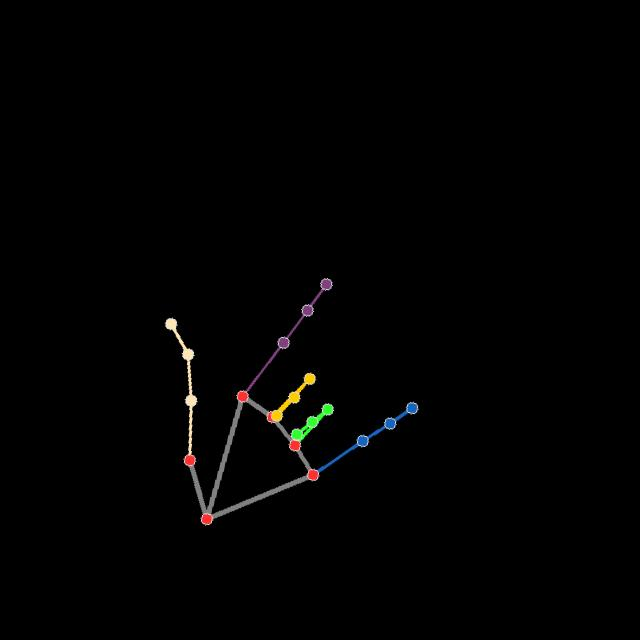spiderman: (164, 276, 421, 526)
